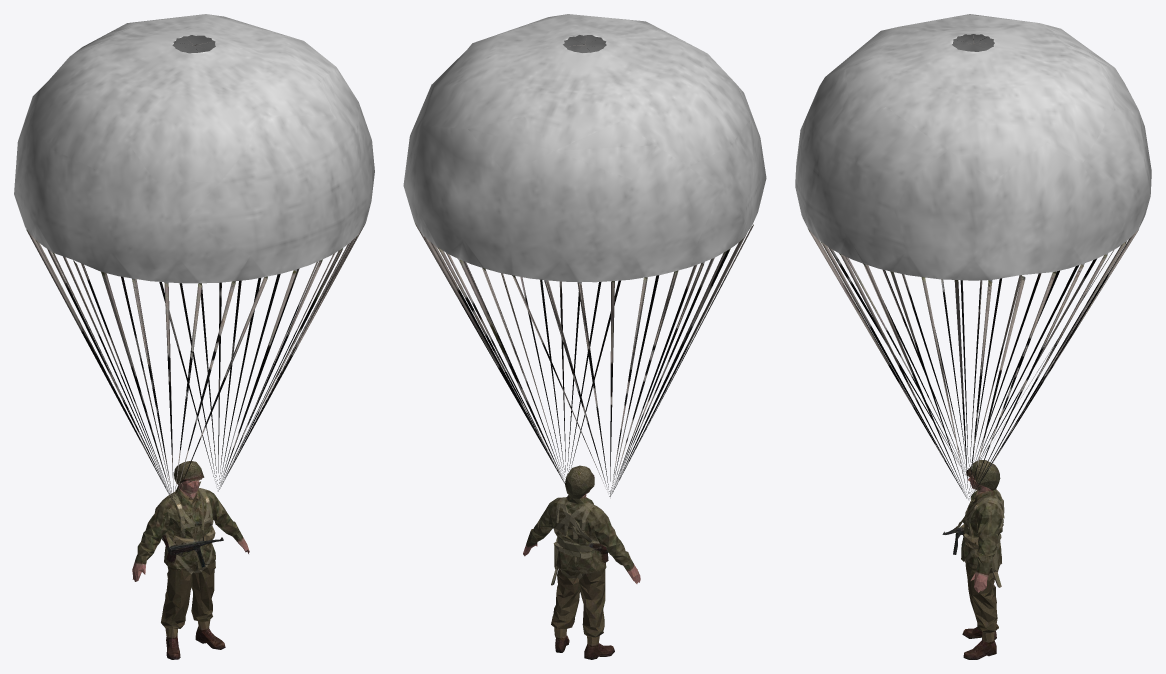
The model's file is realistic-by.b60ac4b96bc9.paratrooper.glb.
The picture shows the model from 3 angles, left to right: view 1: azimuth 30°, elevation 25°; view 2: azimuth 150°, elevation 25°; view 3: azimuth 270°, elevation 25°; orthographic projection.
Visible parts, largest first — view 1: paratrooper; view 2: paratrooper; view 3: paratrooper.
Boxes of the visible parts, <box> form: paratrooper: <box>14,14,374,659</box>; paratrooper: <box>403,14,766,659</box>; paratrooper: <box>795,14,1151,659</box>.
Size of the model in its own units: 3.2 by 5.86 by 3.13.
3 materials, 3 textured.
